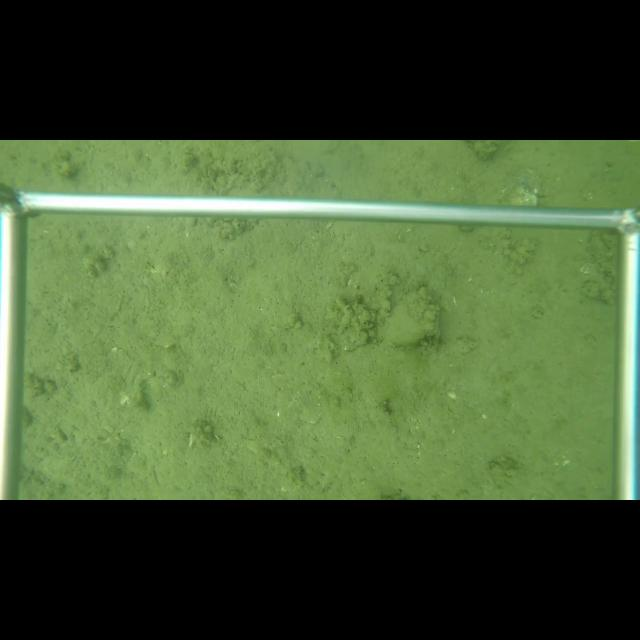Oyster-Closed: (382, 285, 443, 350)
